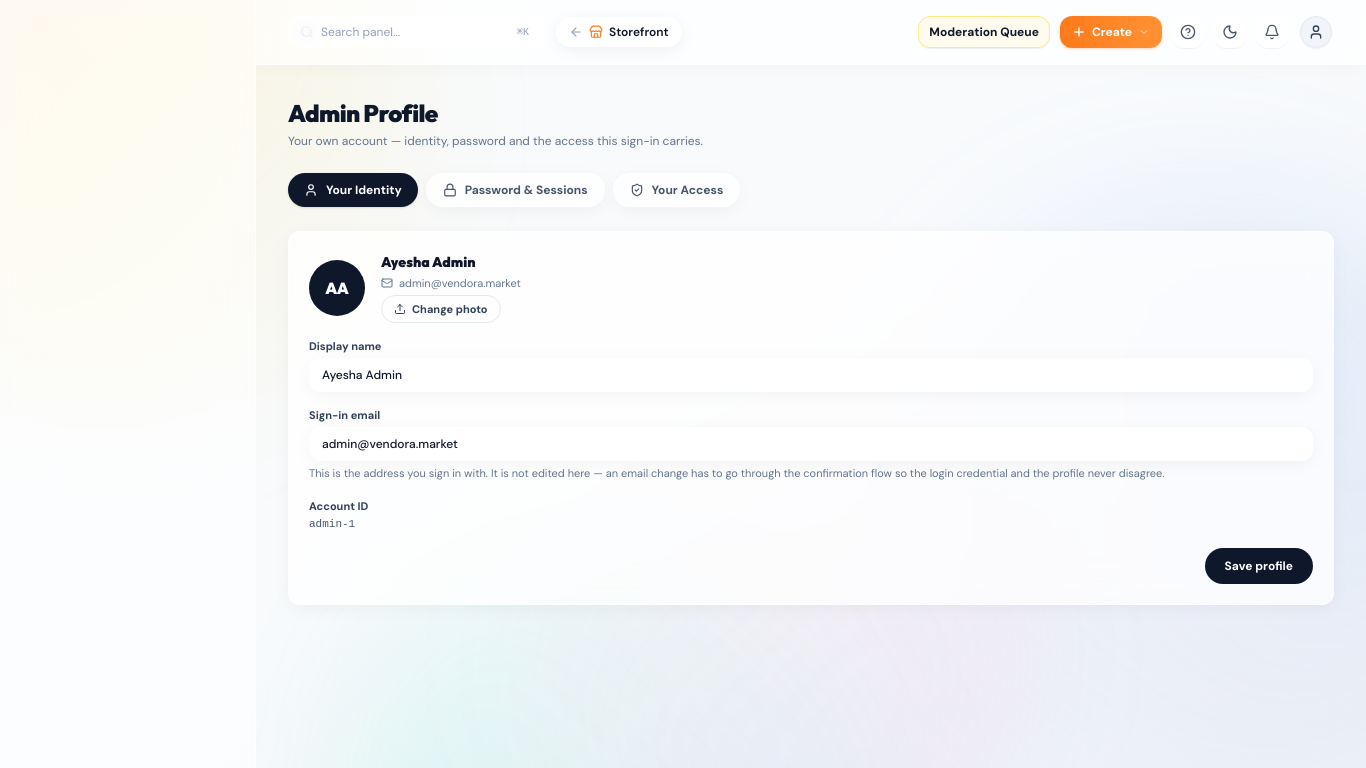
Test case: AdminProfilePage › saves a name change through the real profile helper and re-reads the profile
Replace the text in the field labelled "Display name" with "Ayesha K." at (811, 375), box [309,358,1313,392]
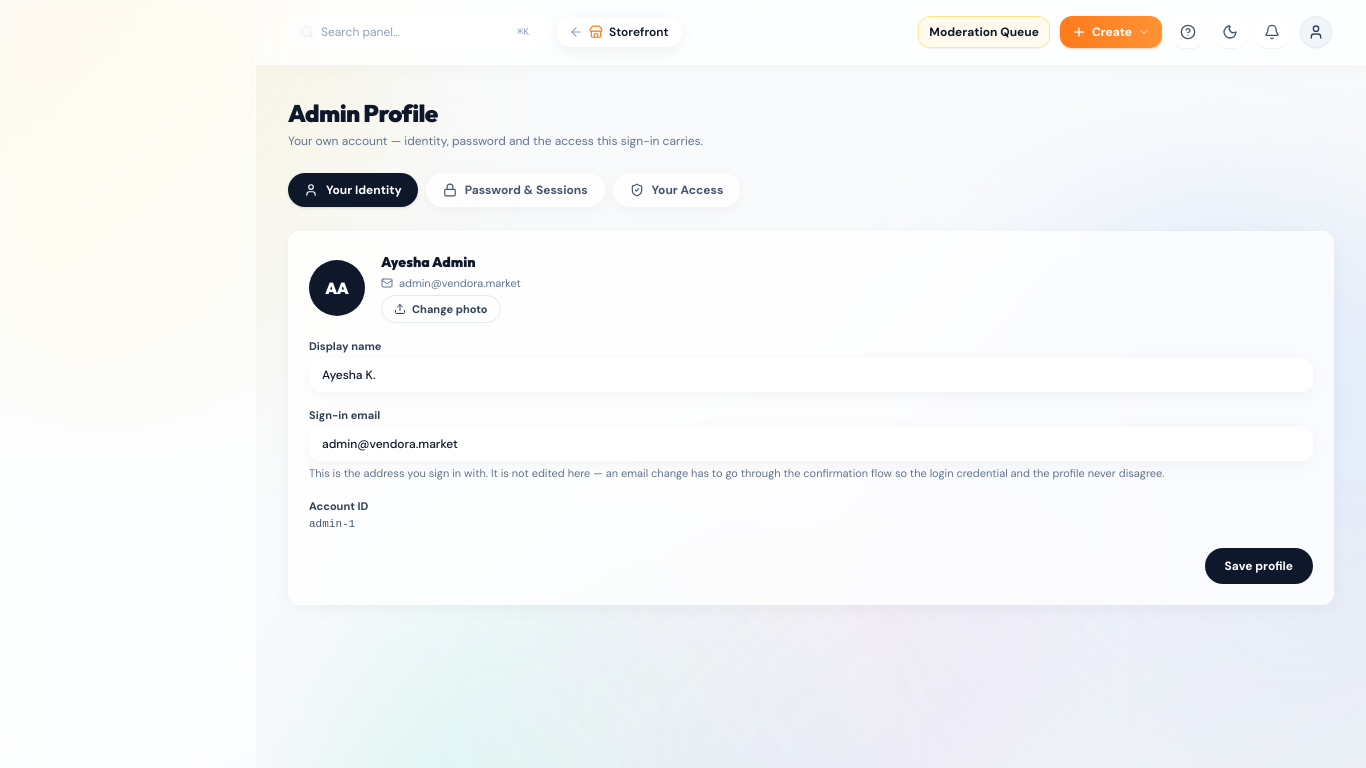
Click the button "Save profile".
click(1259, 566)  # box [1205,548,1313,584]
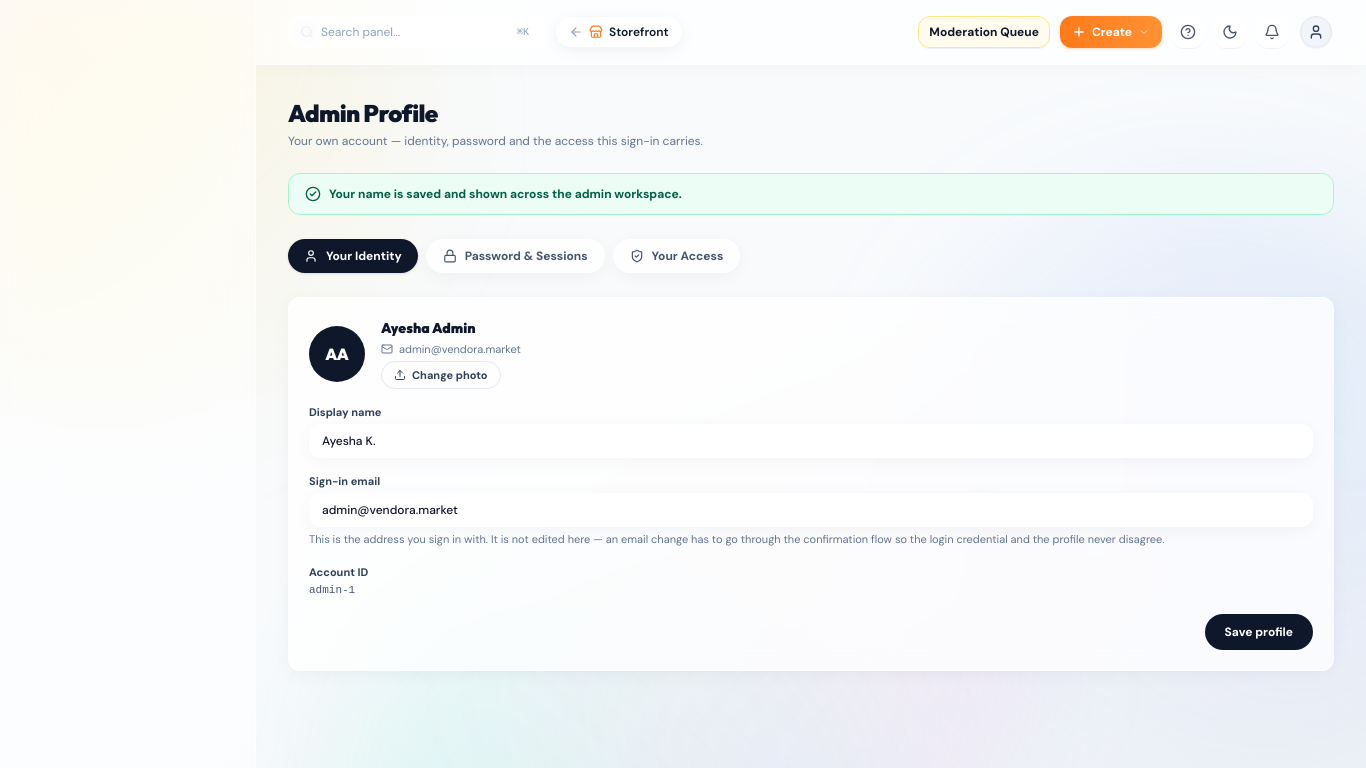
Expected: the text "Your name is saved and shown across the admin workspace." is shown, [329,186,682,202]
